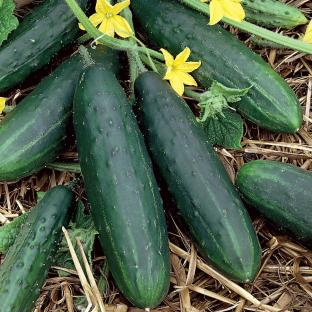Cucumber: (135, 72, 261, 282), (74, 65, 170, 308), (0, 55, 83, 180), (0, 186, 74, 311), (237, 160, 311, 247)
